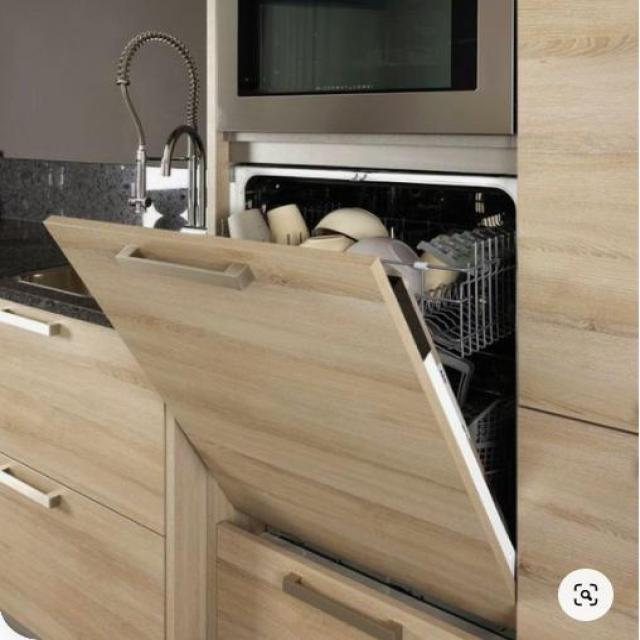dishwasher: (39, 174, 522, 635)
